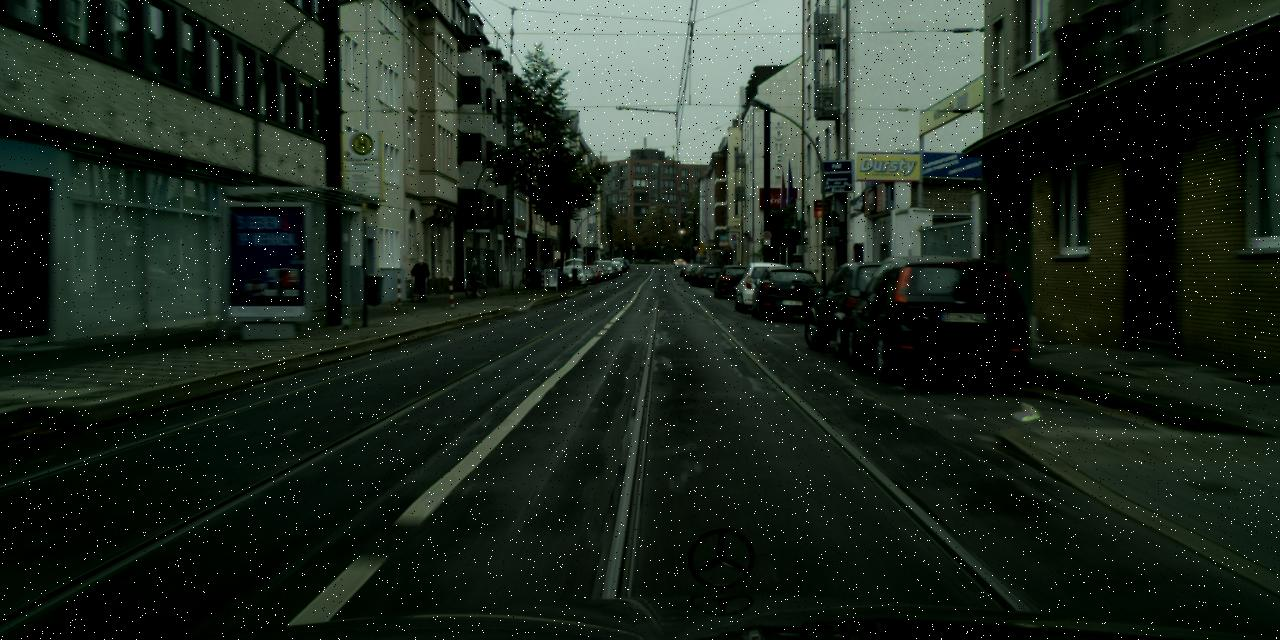ped: (411, 259, 428, 300), (554, 259, 562, 278)
